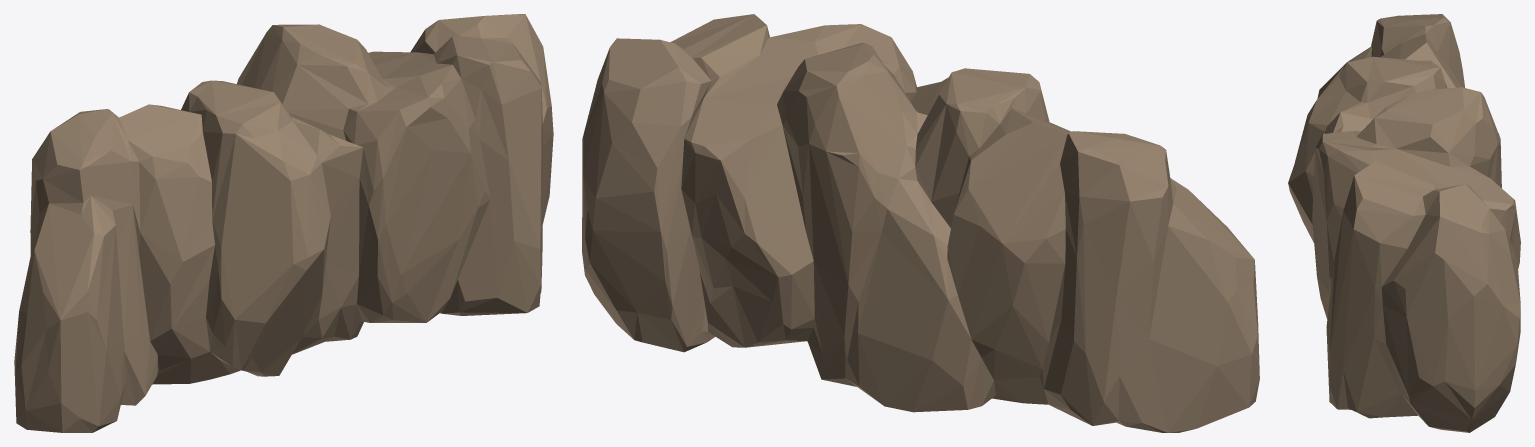
Rendered from SM_Env_Rock_Spikes_05.fbx.
3 views of the same model, side by side, from view 1: azimuth 30°, elevation 25°; view 2: azimuth 150°, elevation 25°; view 3: azimuth 270°, elevation 25° (orthographic). The views are drawn at different scales.
Visible parts, largest first — view 1: SM_Env_Rock_Spikes_05; view 2: SM_Env_Rock_Spikes_05; view 3: SM_Env_Rock_Spikes_05.
Boxes of the visible parts, x1,y1,x2,y2 form: SM_Env_Rock_Spikes_05: (14,14,553,432); SM_Env_Rock_Spikes_05: (582,14,1259,432); SM_Env_Rock_Spikes_05: (1288,14,1520,432).
Bounding box in the file's own units: 2695 × 1326 × 1074.
